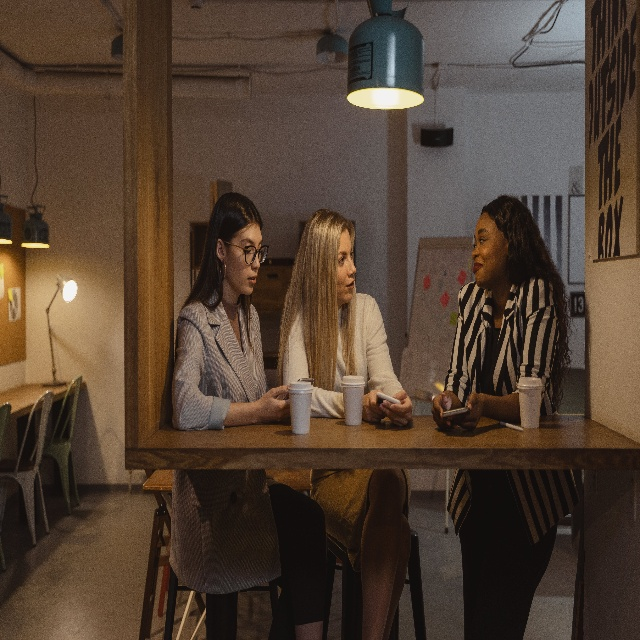Gafas: (225, 238, 269, 265)
Sin_guantes: (256, 383, 291, 423), (451, 388, 484, 430), (380, 390, 413, 426), (432, 388, 458, 427), (361, 388, 384, 424)
